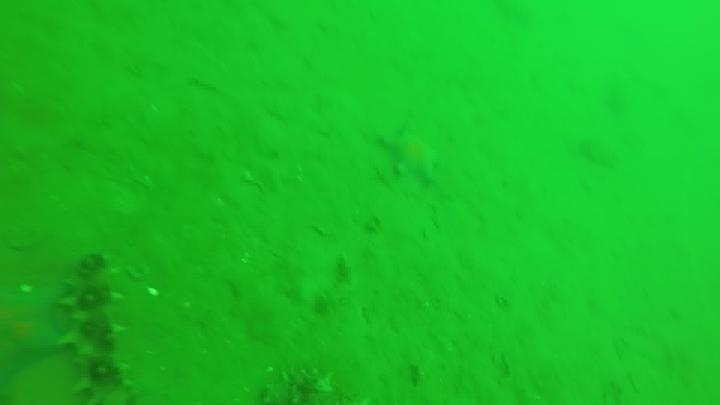holothurian: (57, 252, 137, 404), (258, 364, 355, 404)
starfish: (0, 286, 68, 386), (375, 125, 443, 188)
